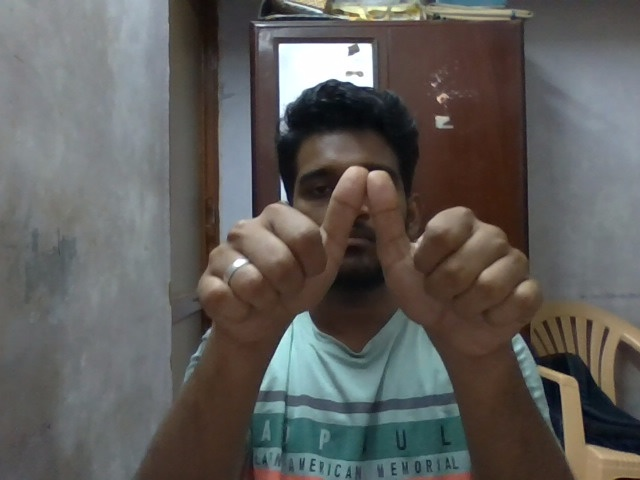A: (195, 163, 549, 373)
